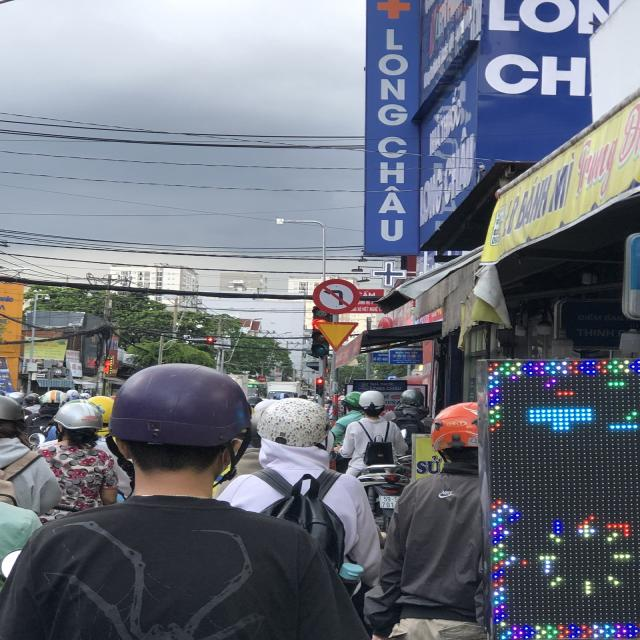Bien bao cam re trai: (311, 276, 363, 314)
Bien bao giao nhau voi duong uu tien: (312, 317, 362, 352)
